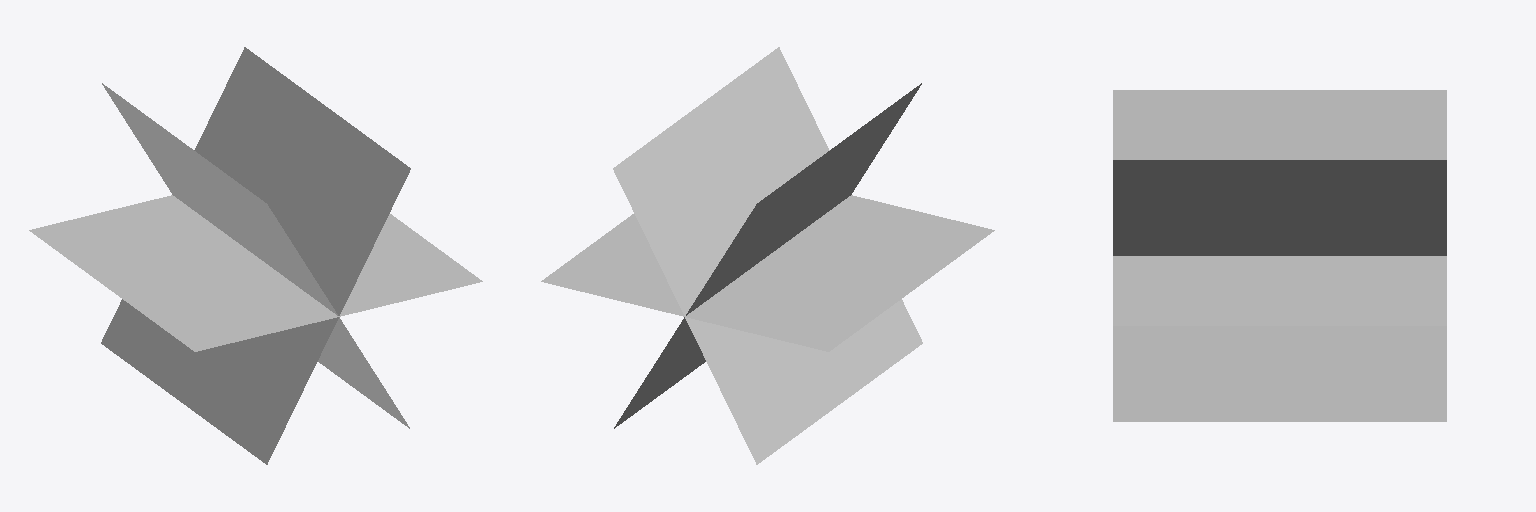
File: grass_mesh.obj
3 views of the same model, side by side, from view 1: azimuth 30°, elevation 25°; view 2: azimuth 150°, elevation 25°; view 3: azimuth 270°, elevation 25° (orthographic).
Parts seen in each view (by area): view 1: grass_mesh; view 2: grass_mesh; view 3: grass_mesh.
Boxes of the visible parts, x1,y1,x2,y2 form: grass_mesh: [29, 47, 482, 464]; grass_mesh: [541, 47, 994, 464]; grass_mesh: [1113, 90, 1446, 421].
Size of the model in its own units: 10 by 8.66 by 10.